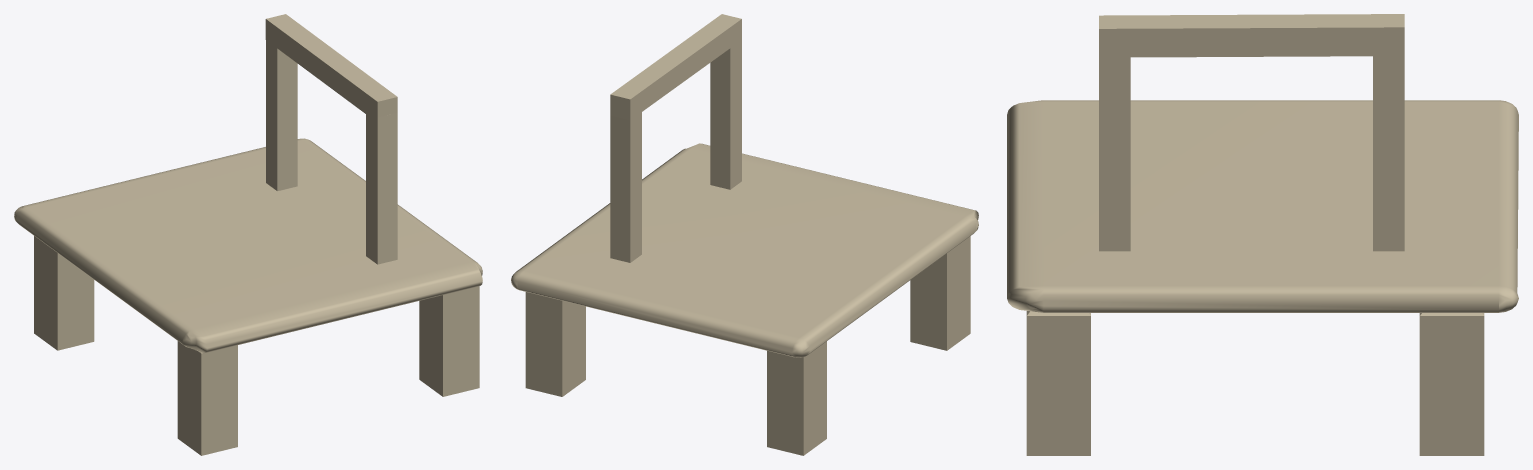
The model's file is GALLOWS.fbx.
3 renders of one model, left to right at view 1: azimuth 30°, elevation 25°; view 2: azimuth 150°, elevation 25°; view 3: azimuth 270°, elevation 25°, orthographic. The views are drawn at different scales.
Visible parts, largest first — view 1: pCube10; view 2: pCube10; view 3: pCube10.
Part boxes in pixels (x1,y1,x2,y2): pCube10: [14, 14, 482, 455]; pCube10: [511, 14, 978, 455]; pCube10: [1007, 14, 1518, 455].
Size of the model in its own units: 14.85 by 13.63 by 16.15.
